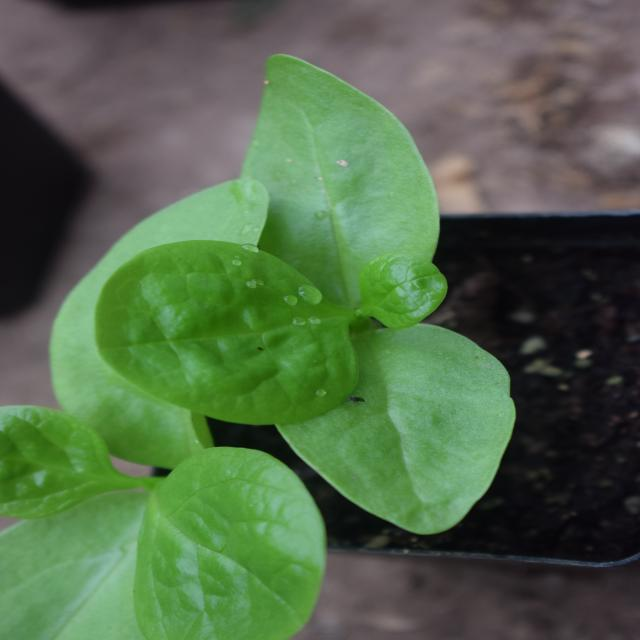Ceylon spinach: (74, 72, 585, 517)
